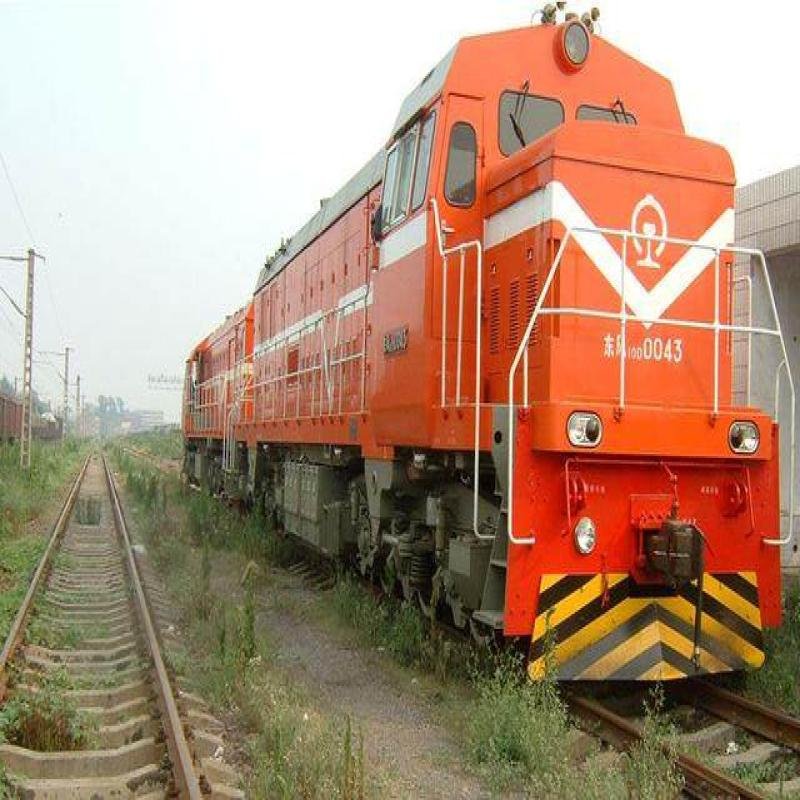train: (180, 3, 794, 721)
